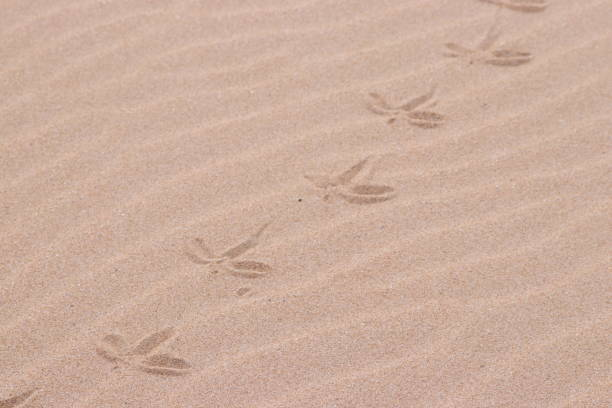animal_foot_print: (185, 222, 271, 278), (96, 327, 191, 375), (305, 157, 395, 204), (445, 25, 531, 65), (367, 86, 444, 128), (480, 0, 548, 12), (0, 389, 39, 407)
